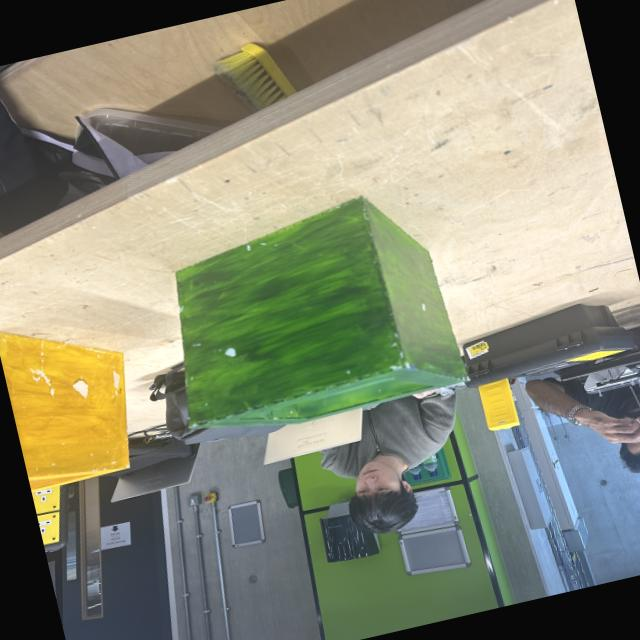green_bin: (147, 180, 471, 448)
